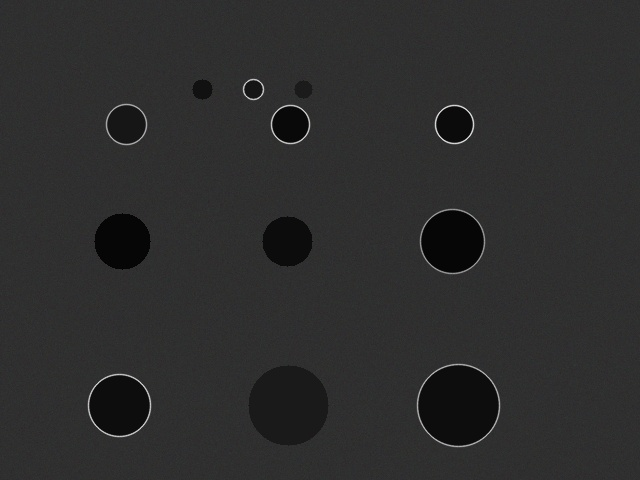hole: (417, 364, 499, 446), (248, 365, 328, 445), (420, 209, 484, 273), (88, 374, 150, 436), (94, 213, 150, 269), (262, 216, 312, 266), (106, 104, 146, 144), (271, 105, 309, 143), (435, 105, 473, 143), (192, 79, 212, 99), (243, 79, 263, 99), (294, 80, 312, 98)
